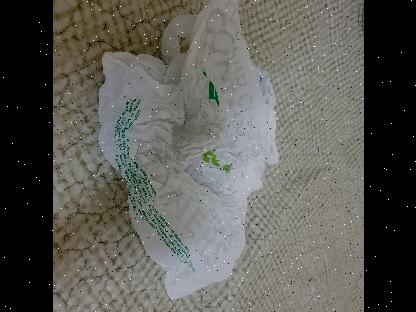Others: (94, 0, 283, 305)
